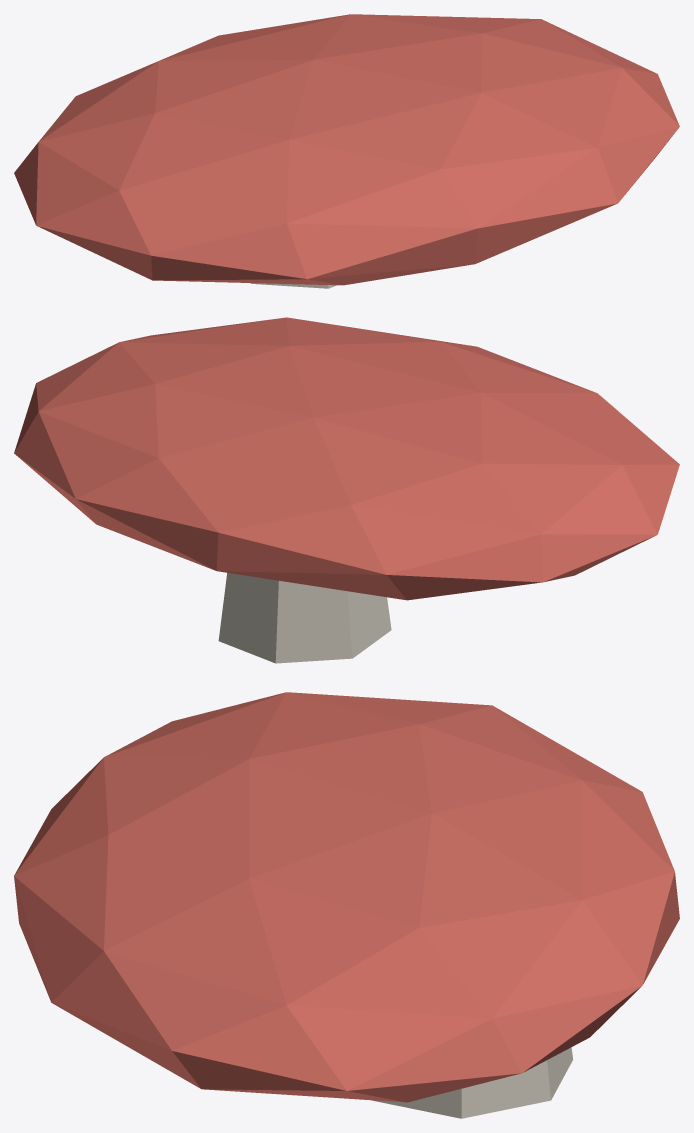
Rendered from lentinus-squarrosulus.glb.
3 views of the same model, one above another, from view 1: azimuth 30°, elevation 25°; view 2: azimuth 150°, elevation 25°; view 3: azimuth 270°, elevation 25° (orthographic). The views are drawn at different scales.
Parts seen in each view (by area): view 1: shelf; view 2: shelf, stalk; view 3: shelf, stalk.
Part boxes in pixels (box(x1,y1,x2,y2)): shelf: box(14, 14, 679, 285); shelf: box(14, 317, 679, 600); stalk: box(218, 573, 391, 663); shelf: box(14, 692, 679, 1102); stalk: box(372, 1047, 573, 1118).
Size of the model in its own units: 0.48 by 0.1484 by 0.3488.
